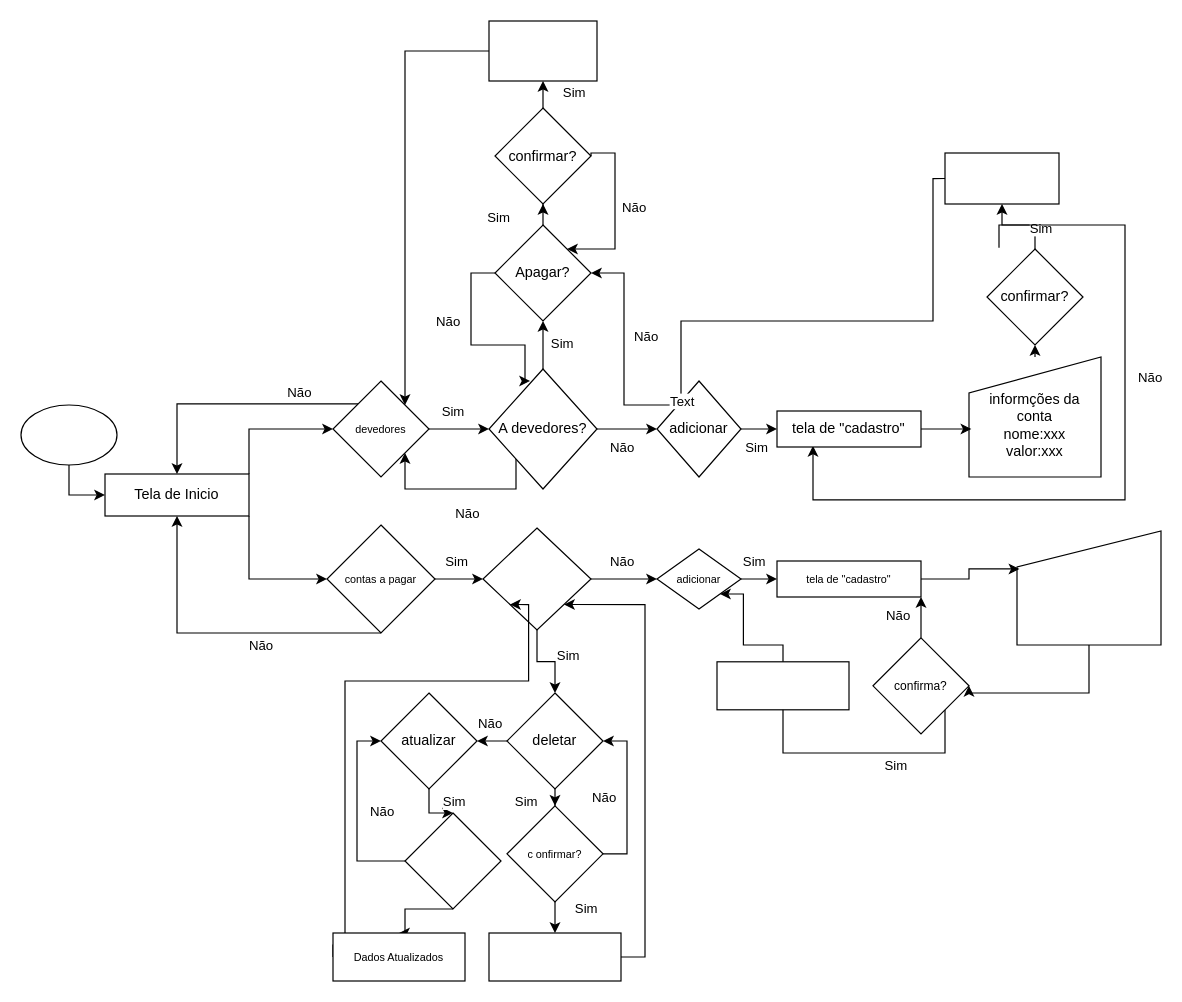
Image size: 1182x1002. Some labels were removed from this diagram. Here are the shapes that lost their labels. From the top down, the box of each, then its label:
(488, 20, 597, 81): apagado
(944, 152, 1059, 204): devedores adicionados
(20, 404, 117, 465): Inicio
(482, 527, 591, 630): tem conta pra pagar?
(1016, 530, 1161, 645): informções da conta nome:xxx valor:xxx validade:xxx
(716, 661, 849, 710): conta adicionada
(404, 812, 501, 909): alteração feita
(488, 932, 621, 981): Conta apagada
